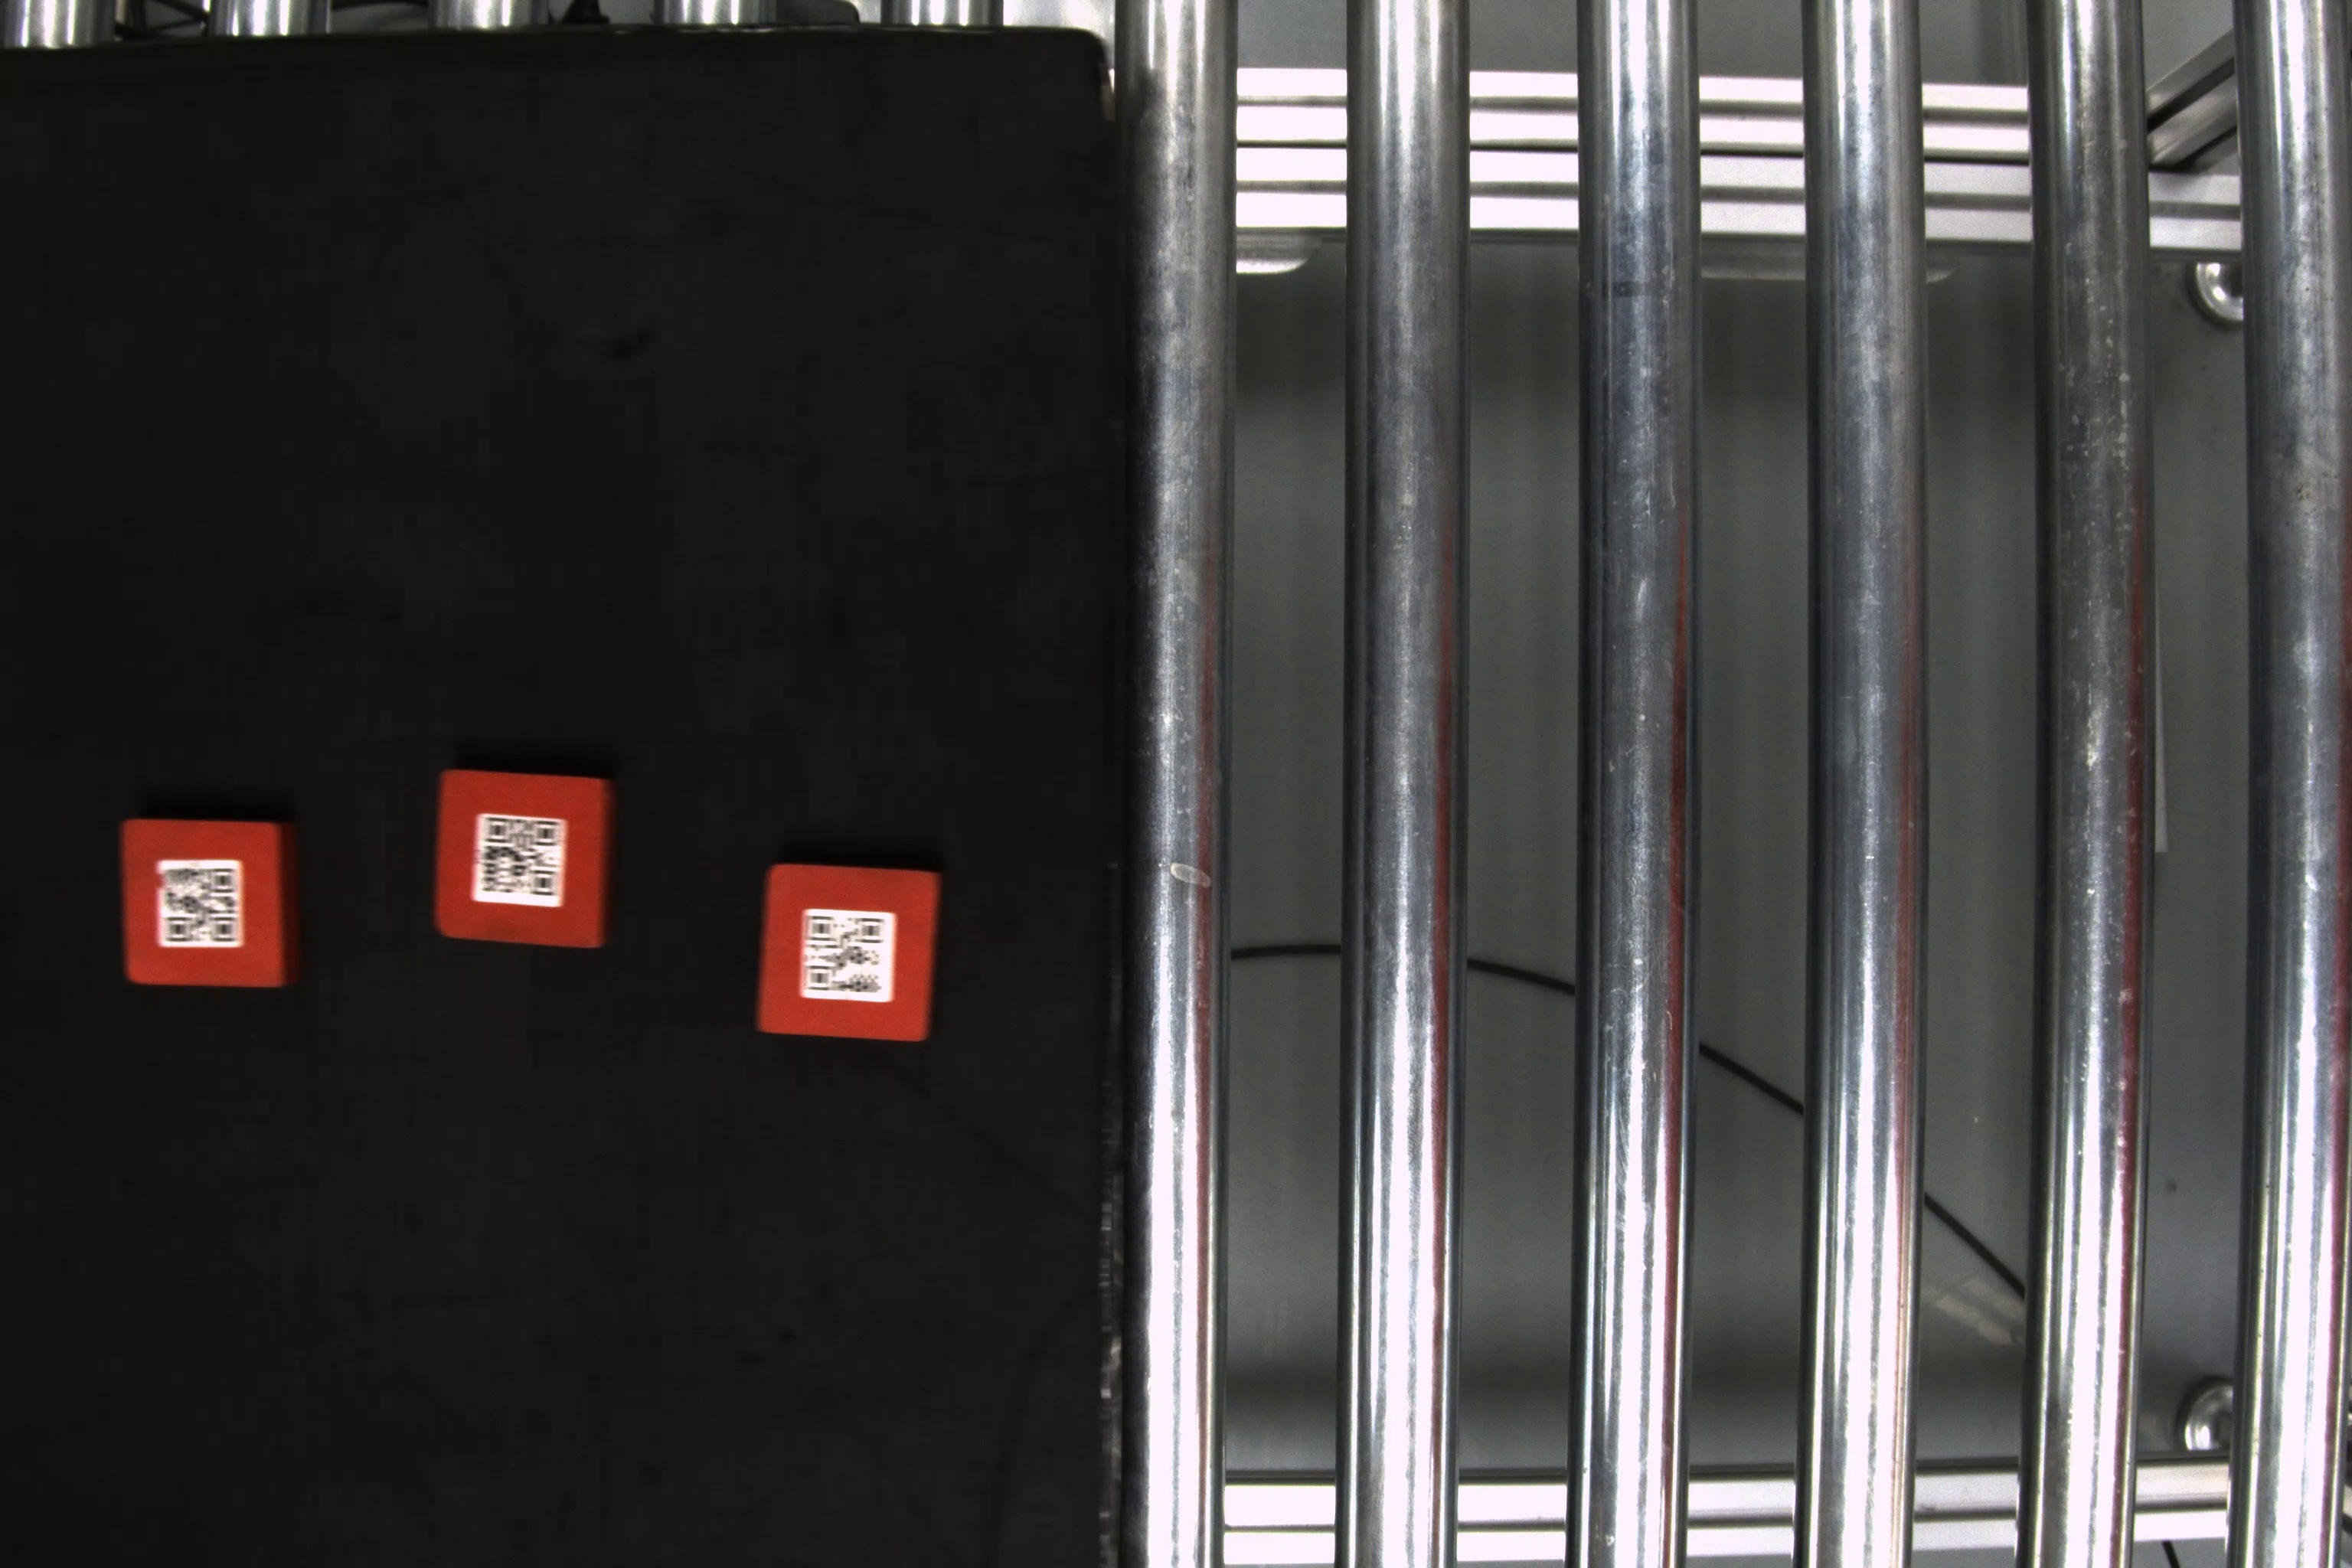wood: (434, 763, 623, 962), (759, 857, 947, 1053), (115, 815, 306, 996)
